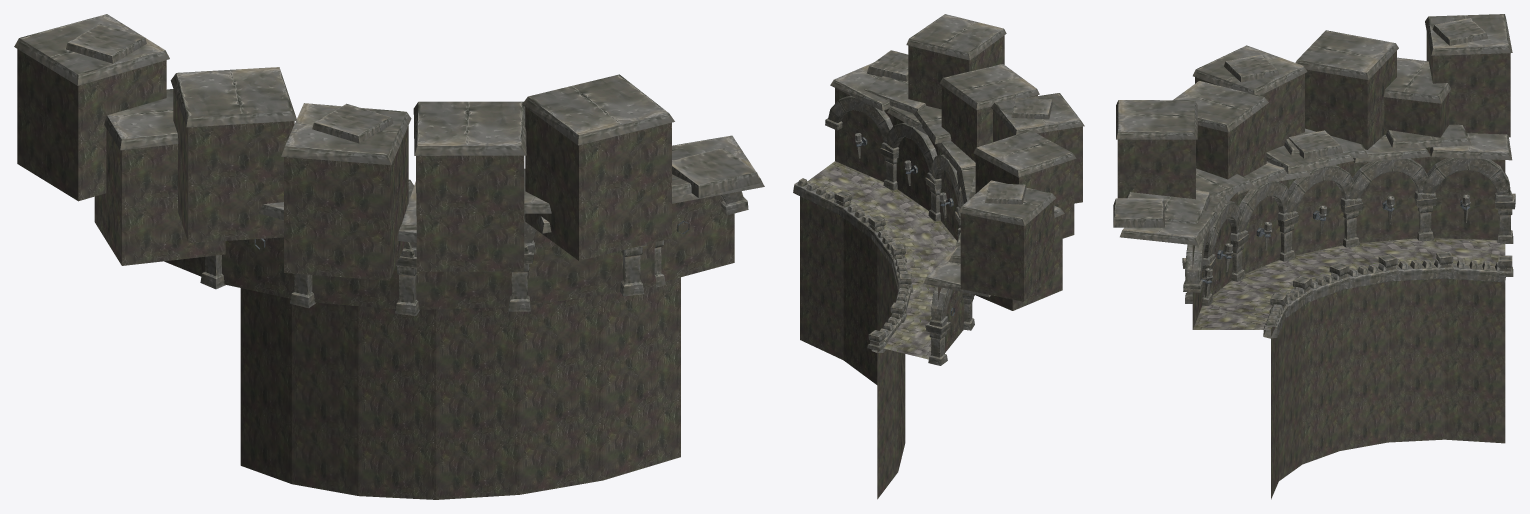
The model's file is spiral_down001.obj.
3 views of the same model, side by side, from view 1: azimuth 30°, elevation 25°; view 2: azimuth 150°, elevation 25°; view 3: azimuth 270°, elevation 25° (orthographic). The views are drawn at different scales.
Visible parts, largest first — view 1: spiral_down001; view 2: spiral_down001; view 3: spiral_down001.
Boxes of the visible parts, x1=… form: spiral_down001: x1=14, y1=14, x2=764, y2=499; spiral_down001: x1=793, y1=14, x2=1084, y2=499; spiral_down001: x1=1113, y1=14, x2=1515, y2=499.
Size of the model in its own units: 55.39 by 52.14 by 51.51.
